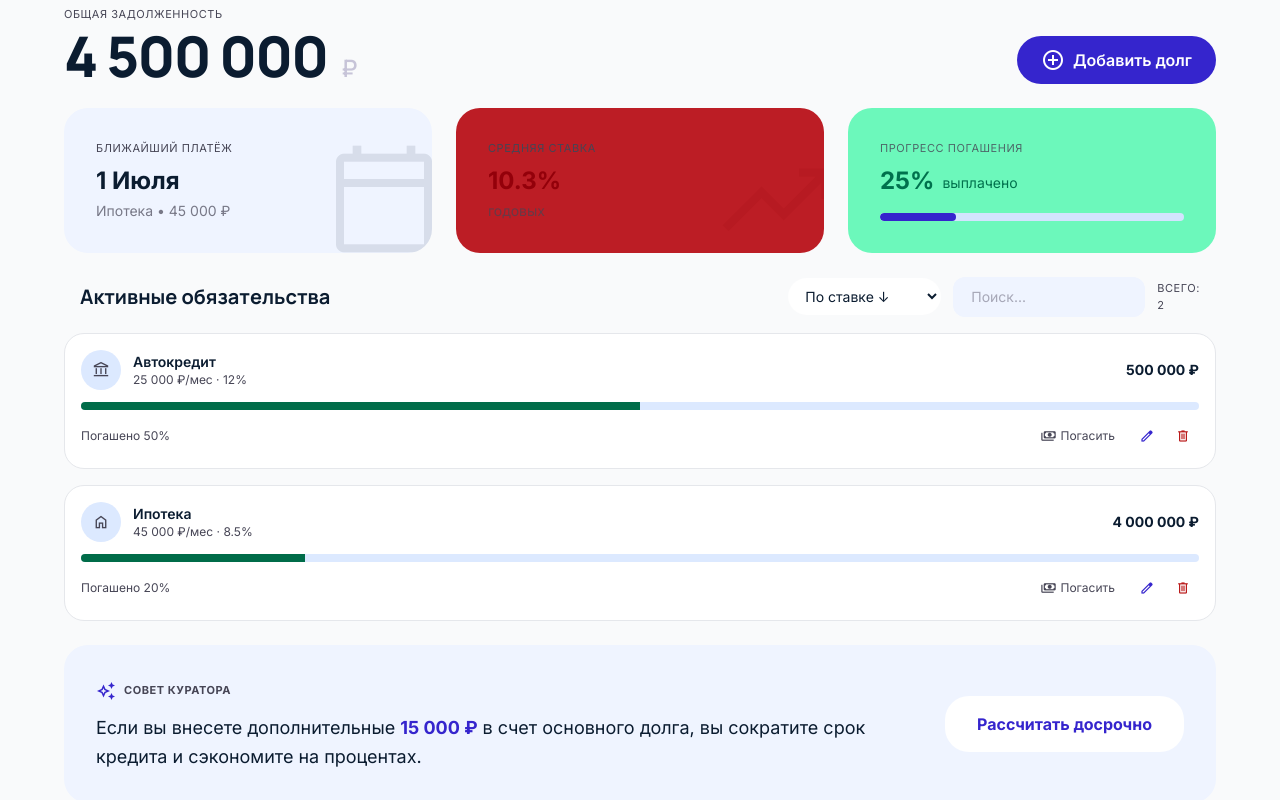
Debts › opens add debt modal when add button is clicked
Expected: the text "Общая задолженность" is shown, [64, 7, 223, 21]
Click the button "Добавить долг": [1116, 60] box [1017, 36, 1216, 84]
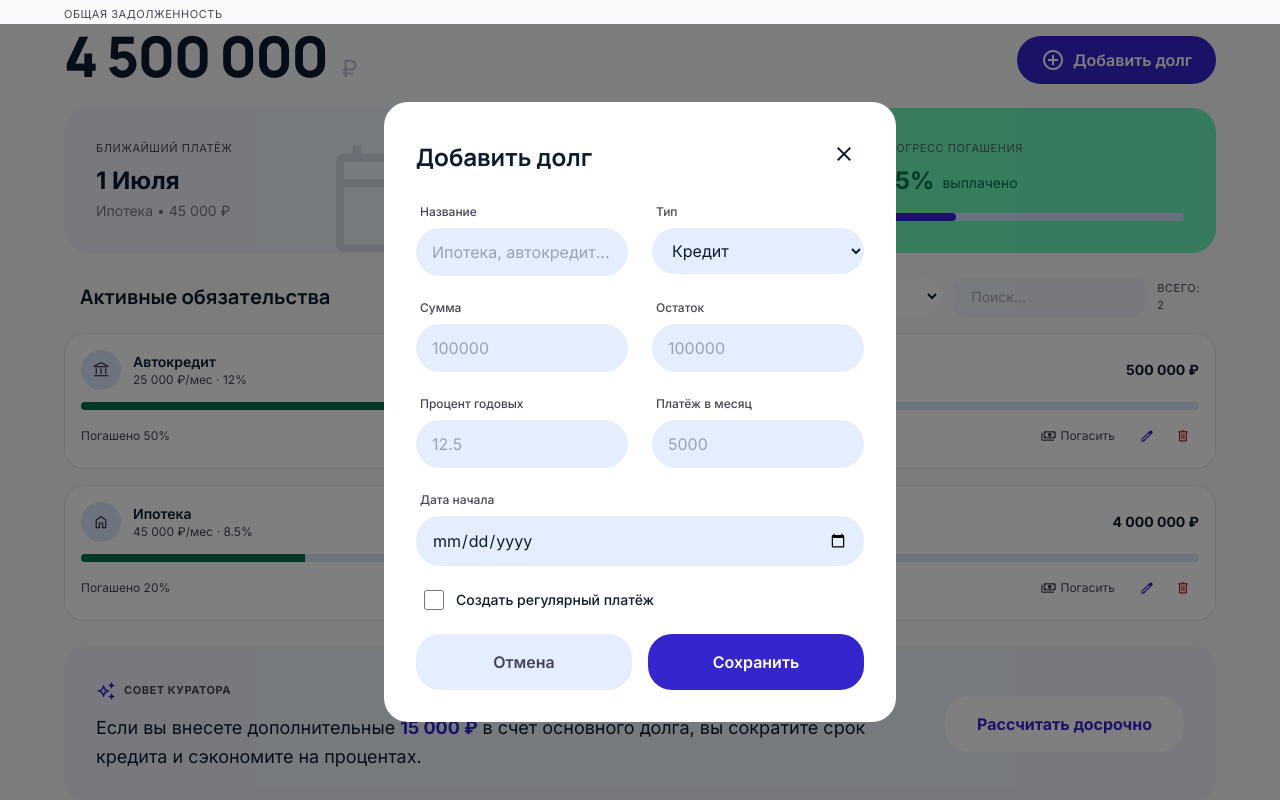
Expected: the field with placeholder "Ипотека, автокредит..." is shown, [416, 228, 628, 276]
